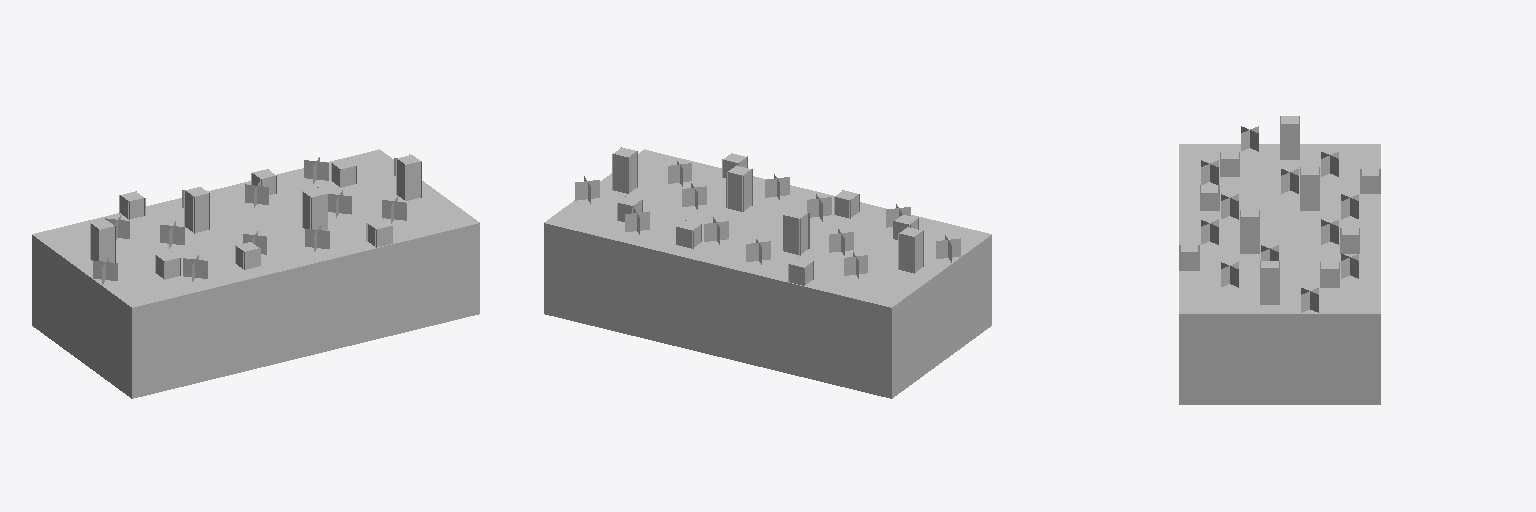
The model's file is tiny-desert.obj.
3 renders of one model, left to right at view 1: azimuth 30°, elevation 25°; view 2: azimuth 150°, elevation 25°; view 3: azimuth 270°, elevation 25°, orthographic.
Visible parts, largest first — view 1: Honors_Various_Samples__114_197_-81_to_133_208_-72; view 2: Honors_Various_Samples__114_197_-81_to_133_208_-72; view 3: Honors_Various_Samples__114_197_-81_to_133_208_-72.
Part boxes in pixels (x1,y1,x2,y2): Honors_Various_Samples__114_197_-81_to_133_208_-72: (32, 149, 479, 398); Honors_Various_Samples__114_197_-81_to_133_208_-72: (544, 147, 991, 398); Honors_Various_Samples__114_197_-81_to_133_208_-72: (1179, 116, 1380, 404).
Bounding box in the file's own units: 20 × 7 × 10.